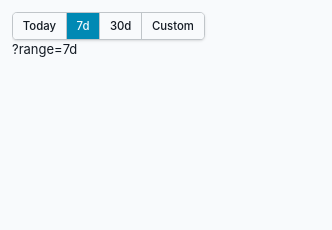
Test: <DateRangeFilter> › Cancel dismisses the popover without changing URL
Click the button with test id "date-range-preset-custom".
click(173, 26)  # box [142,13,204,39]
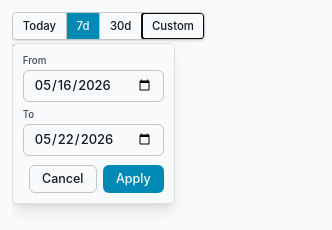
expect the element with test id "date-range-popover" is shown: met, box [12,43,174,204]
Click the button with test id "date-range-cancel".
click(63, 179)  # box [29,165,96,193]
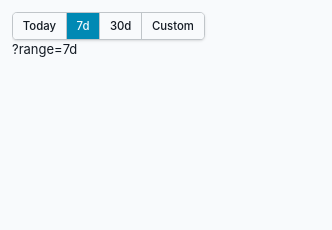
expect the text with test id "location-echo" reads "?range=7d": met, box [12,41,77,57]
expect the element with test id "date-range-popover" is gone: met
